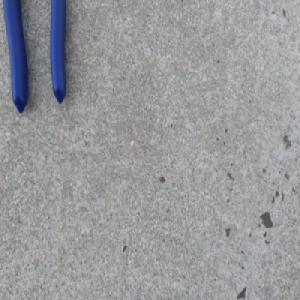Pliers: (3, 0, 67, 115)
